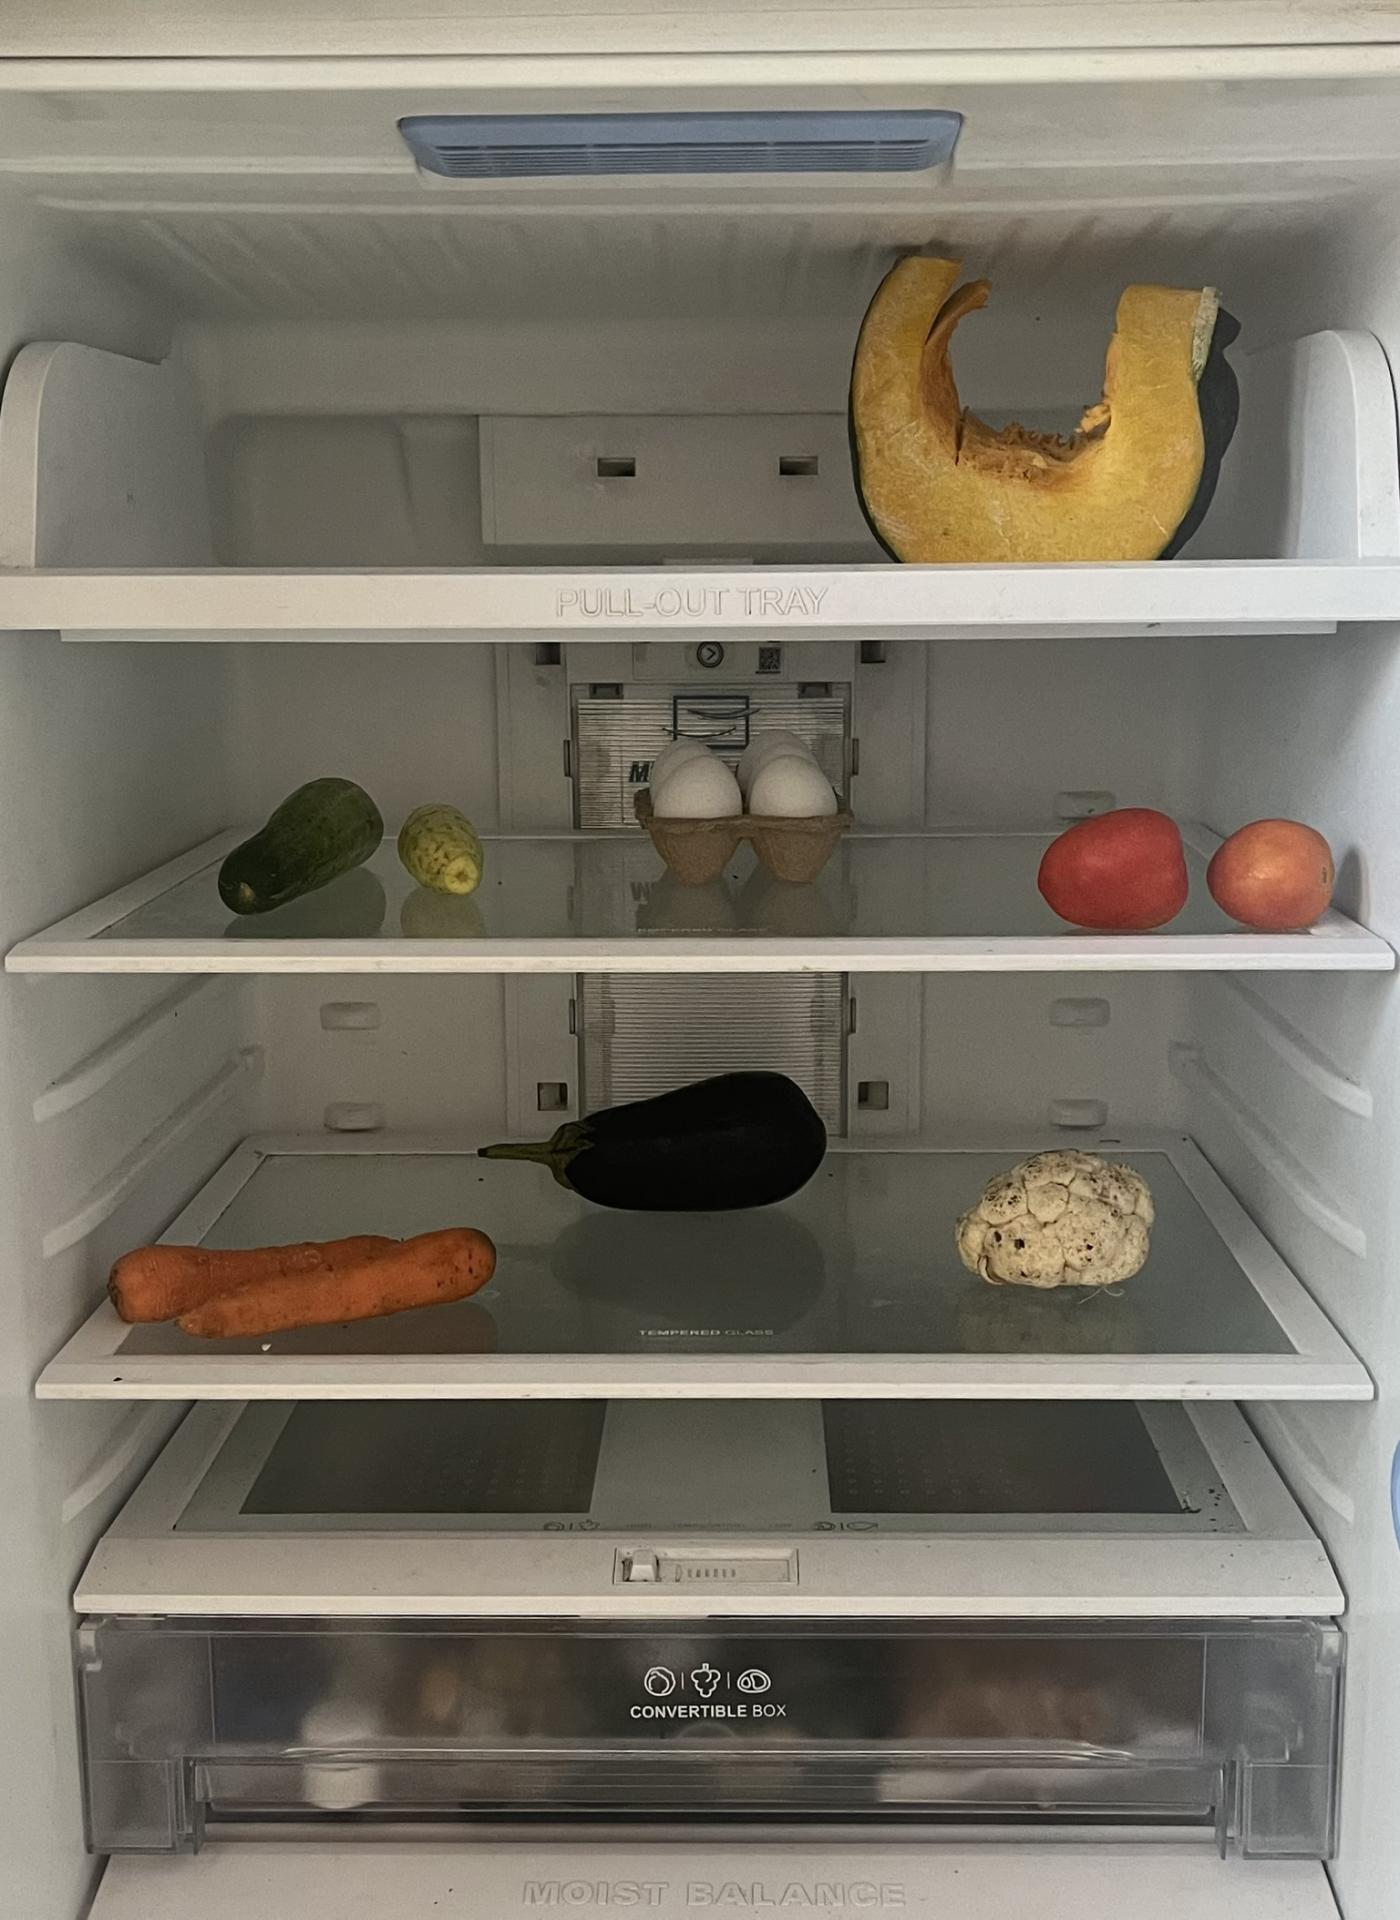brinjal: (488, 1076, 841, 1213)
carrots: (101, 1227, 495, 1334)
cauliflower: (954, 1152, 1155, 1291)
cucumber: (215, 777, 491, 918)
egg: (643, 751, 844, 887)
pumpkin: (833, 256, 1223, 571)
tomato: (1041, 815, 1349, 941)
